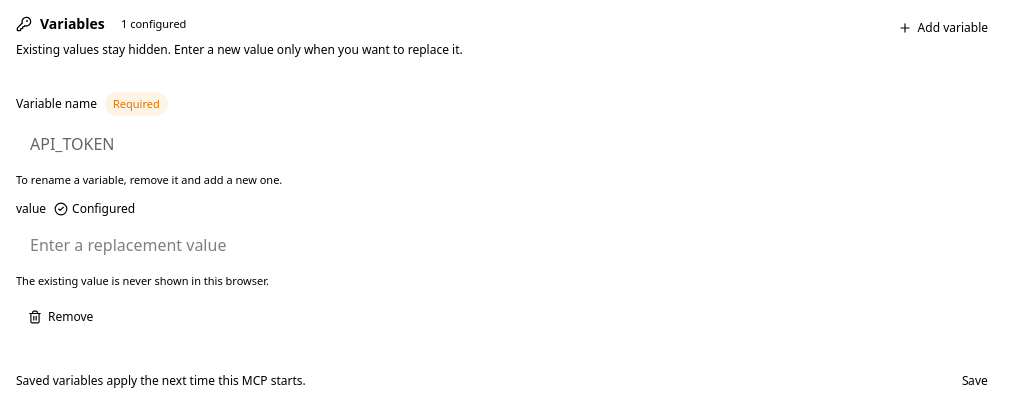
VariablesEditor › marks removal explicitly instead of treating an empty password input as a delete
The image size is (1017, 405).
Click the button "Remove". click: click(61, 317)
box: [16,301,105,333]
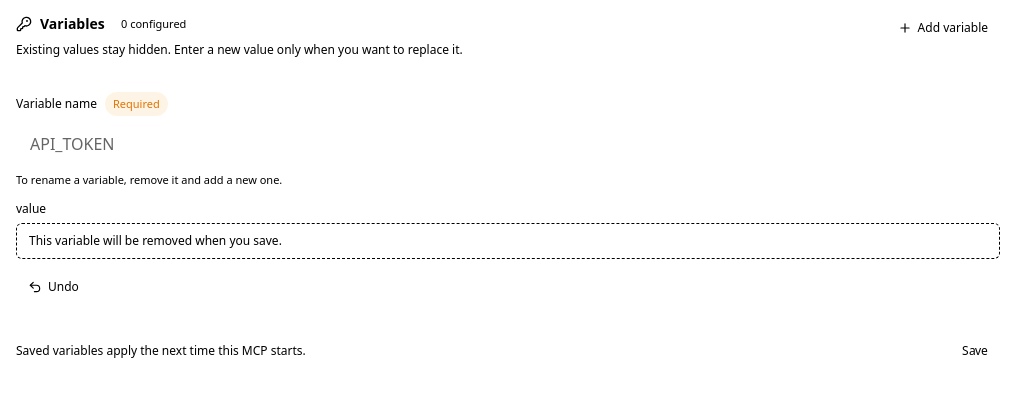
Result: the text "This variable will be removed when you save." is shown at [16,222,1000,258]
